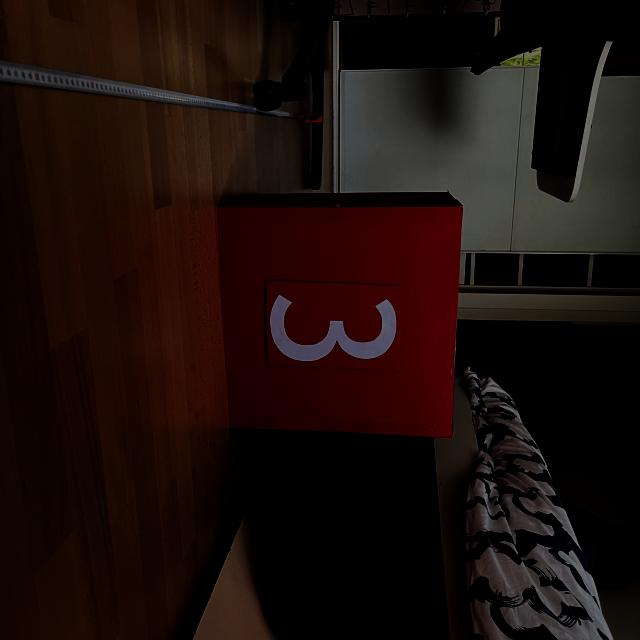box: (212, 188, 465, 440)
